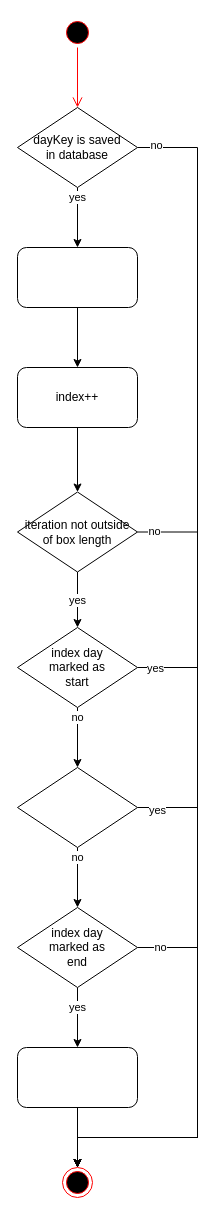
Image size: 223x1215. Some labels were removed from this diagram. Each missing label, with the box of its shape:
day == today: (16, 766, 138, 848)
delete entry: (16, 1046, 138, 1108)
increase index until dayKey is found in database: (16, 246, 138, 308)
